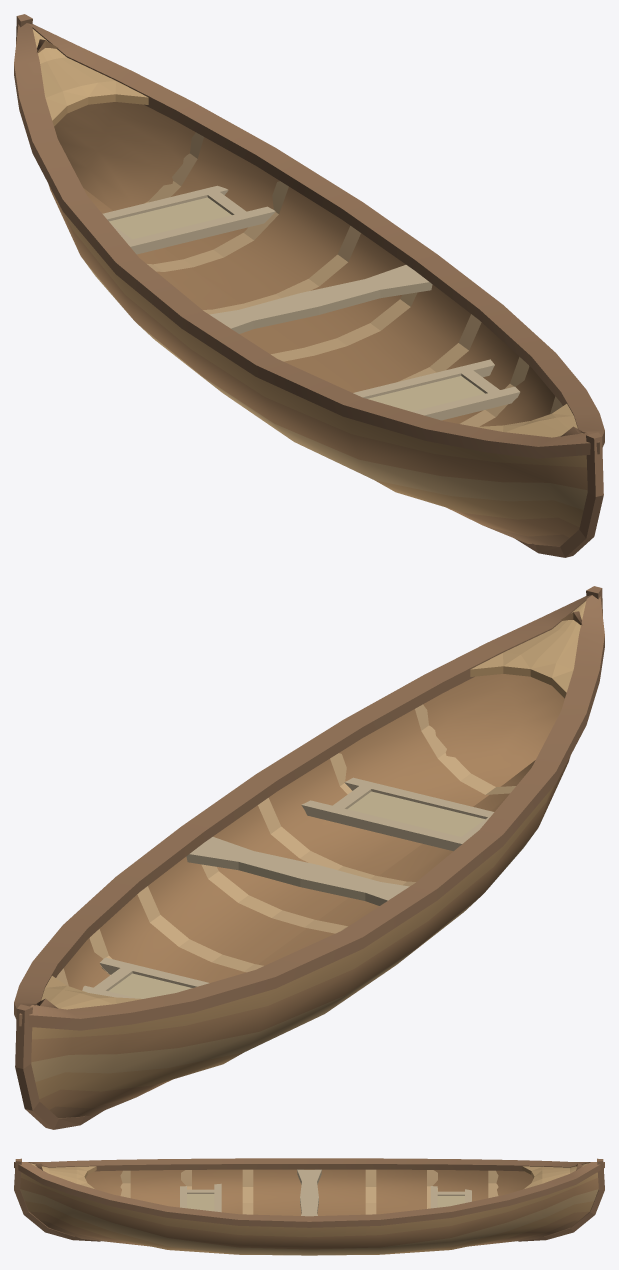
File: CedarCanoePlain.glb
3 views of the same model, one above another, from view 1: azimuth 30°, elevation 25°; view 2: azimuth 150°, elevation 25°; view 3: azimuth 270°, elevation 25° (orthographic). The views are drawn at different scales.
Parts seen in each view (by area): view 1: CedarCanoePlain; view 2: CedarCanoePlain; view 3: CedarCanoePlain.
Boxes of the visible parts, x1,y1,x2,y2 form: CedarCanoePlain: (14, 14, 604, 557); CedarCanoePlain: (14, 586, 604, 1129); CedarCanoePlain: (14, 1158, 604, 1255).
Size of the model in its own units: 3.18 by 1.96 by 12.5.
